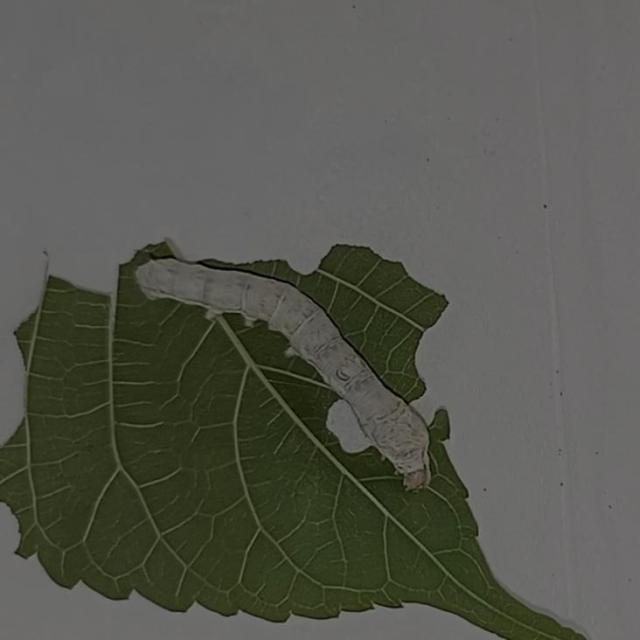Healthy: (127, 240, 446, 496)
